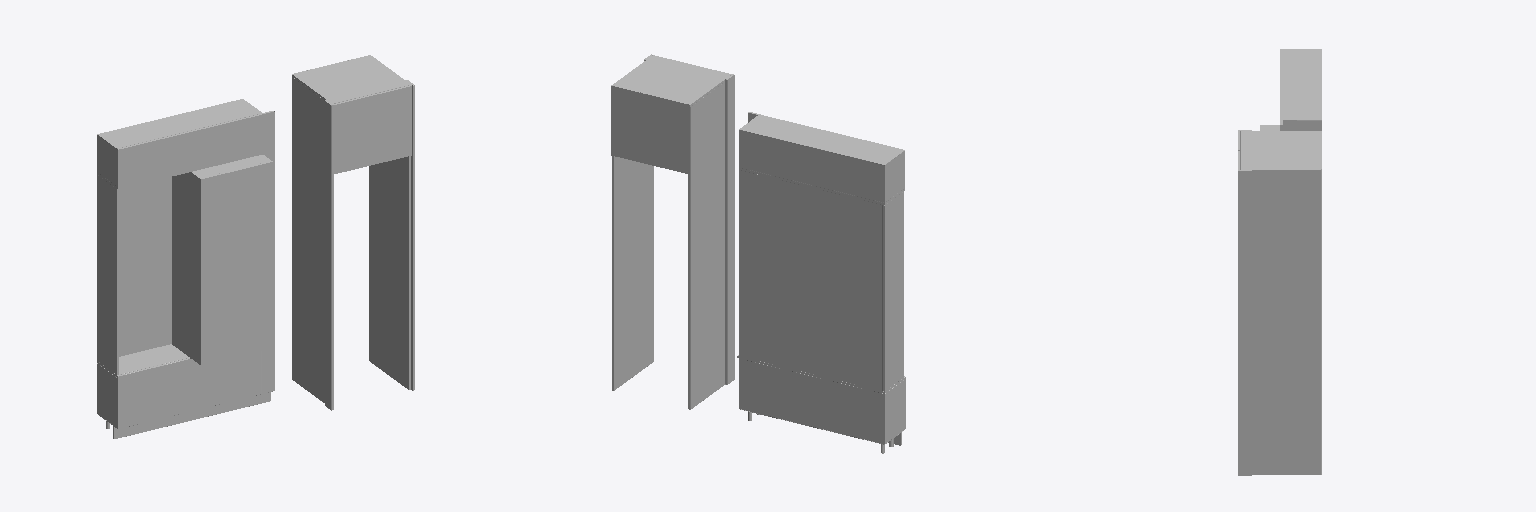
The model's file is MSR.obj.
The picture shows the model from 3 angles: view 1: azimuth 30°, elevation 25°; view 2: azimuth 150°, elevation 25°; view 3: azimuth 270°, elevation 25°; orthographic projection.
Visible parts, largest first — view 1: 34, 27, 28, 33, 24, 35, 19, 17, 45, 18, 10, 30 (+9 smaller); view 2: 33, 27, 28, 0, 46, 11, 19, 45, 30, 10, 1, 7; view 3: 28, 29, 45, 10.
Part boxes in pixels (bbox=[...]): 34: bbox=[201, 162, 272, 364]; 27: bbox=[292, 77, 324, 402]; 28: bbox=[369, 156, 410, 389]; 33: bbox=[119, 177, 171, 356]; 24: bbox=[117, 114, 262, 189]; 35: bbox=[172, 172, 198, 363]; 19: bbox=[97, 175, 118, 374]; 17: bbox=[117, 358, 190, 428]; 45: bbox=[292, 55, 410, 103]; 18: bbox=[190, 351, 261, 410]; 10: bbox=[97, 99, 261, 148]; 30: bbox=[325, 100, 333, 410]; 33: bbox=[739, 170, 881, 390]; 27: bbox=[688, 82, 724, 409]; 28: bbox=[612, 156, 653, 390]; 0: bbox=[739, 359, 884, 443]; 46: bbox=[611, 85, 689, 174]; 11: bbox=[739, 130, 883, 201]; 19: bbox=[882, 192, 903, 391]; 45: bbox=[612, 56, 730, 106]; 30: bbox=[725, 74, 734, 384]; 10: bbox=[739, 115, 903, 165]; 1: bbox=[885, 380, 903, 443]; 7: bbox=[884, 152, 903, 202]; 28: bbox=[1252, 172, 1321, 474]; 29: bbox=[1238, 170, 1251, 475]; 45: bbox=[1241, 131, 1321, 171]; 10: bbox=[1283, 49, 1321, 119].
Bounding box in the file's own units: 2.27 × 2.4 × 0.6.